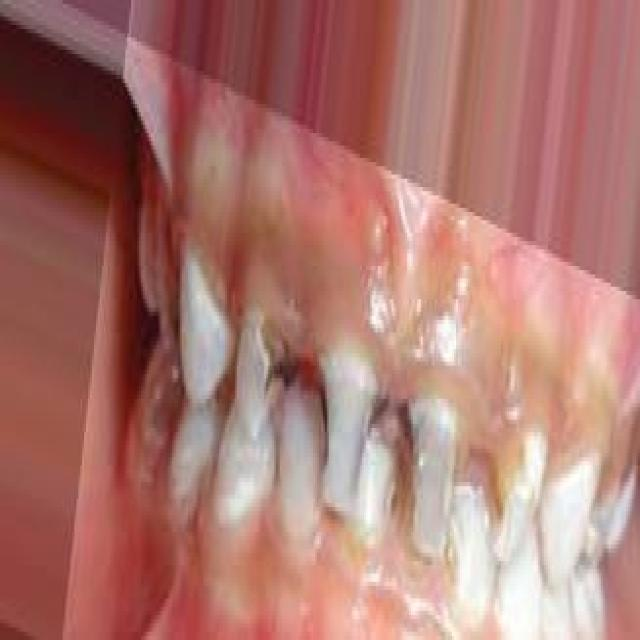caries: (312, 342, 390, 509), (396, 378, 468, 545), (482, 410, 548, 554), (238, 302, 302, 438)
